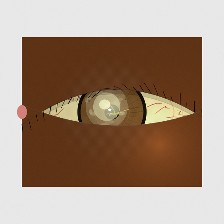corneal_ulcer: (83, 88, 130, 125)
